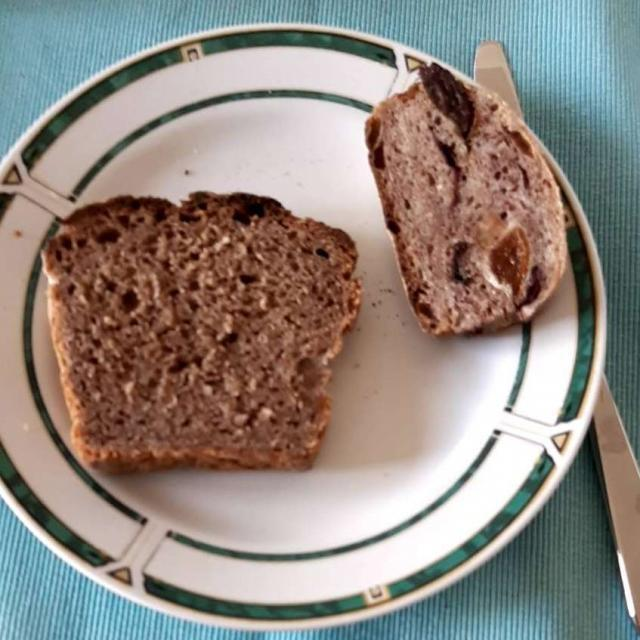bread: (63, 203, 359, 482), (382, 72, 559, 328)
